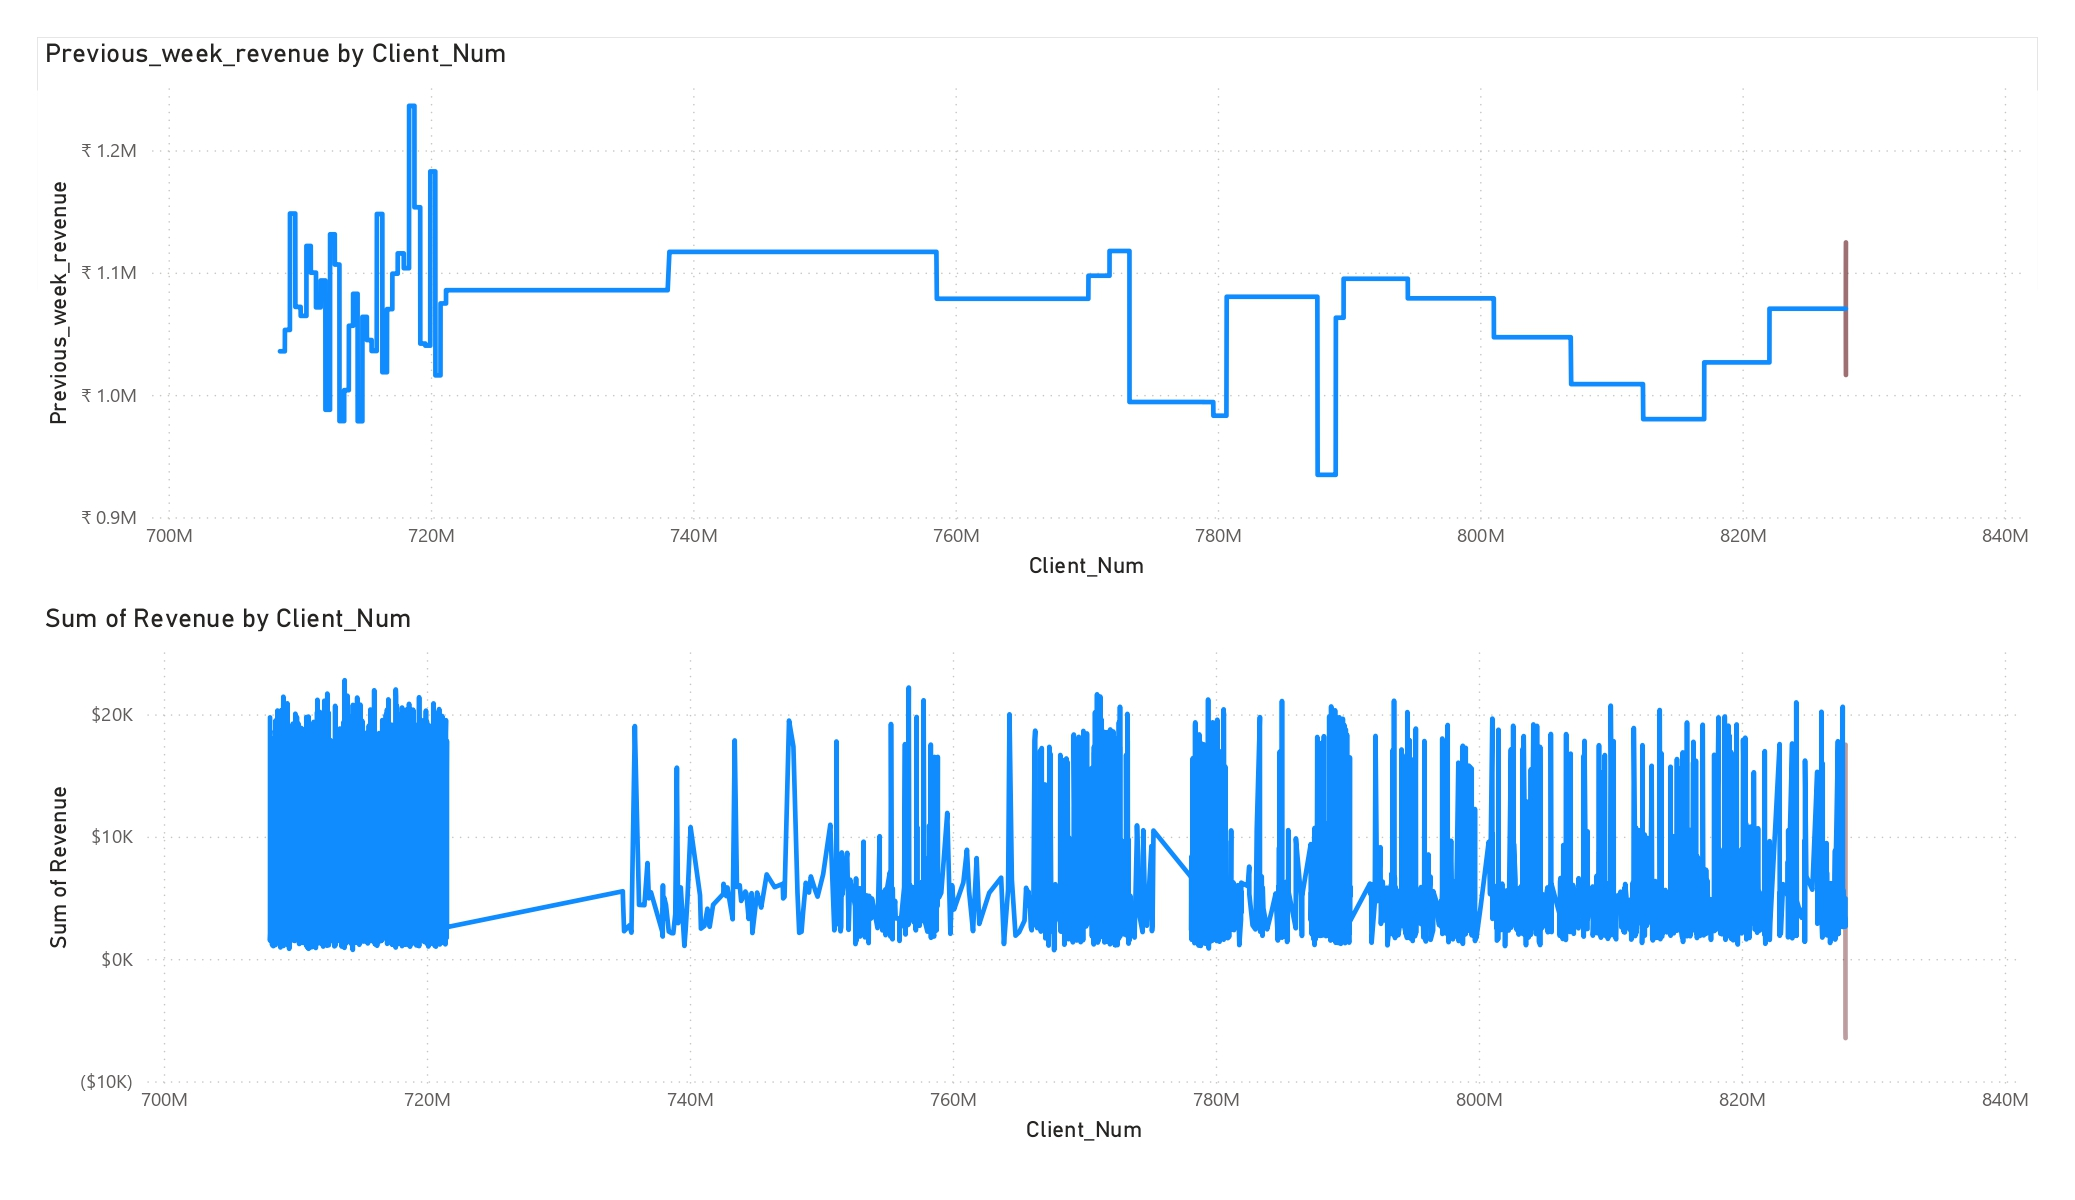

Layout of this report page (visuals, bound fields, positions):
{"tool":"powerbi","page":{"name":"Forecasting","canvas":[1280,720],"ordinal":2},"visuals":[{"type":"lineChart","fields":{"Category":["Public cust-detail.Client_Num"],"Y":["Public cc-detail.Previous_week_revenue"]},"box":[0,0,1280.3,351],"z":0},{"type":"lineChart","fields":{"Category":["Public cc-detail.Client_Num"],"Y":["Sum(Public cc-detail.Revenue)"]},"box":[0,361,1280,351],"z":1000}]}

Visuals, with their boxes on the page's 1280x720 design canvas (x1, y1, x2, y2). These are canvas units, not pixel positions in the 2075x1200 screenshot, which may show the page scaled, cropped or inside an application window:
lineChart - Public cust-detail.Client_Num x Public cc-detail.Previous_week_revenue: x1=0, y1=0, x2=1280, y2=351
lineChart - Public cc-detail.Client_Num x Sum(Public cc-detail.Revenue): x1=0, y1=361, x2=1280, y2=712
